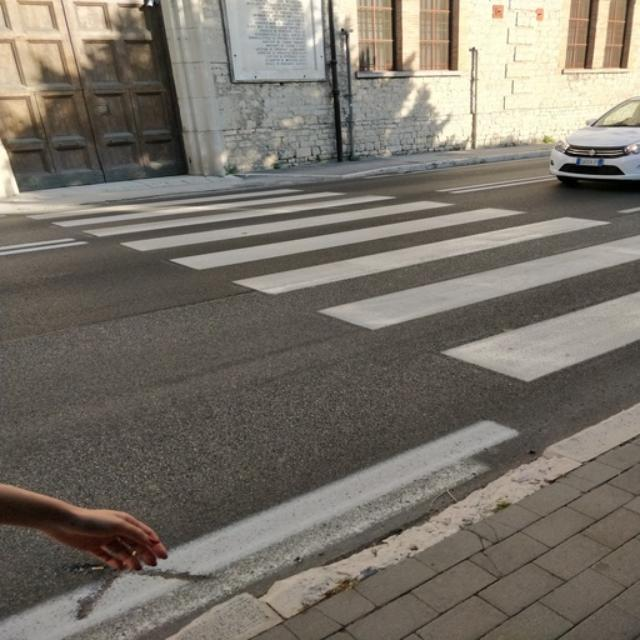sidewalk: (41, 181, 640, 423)
